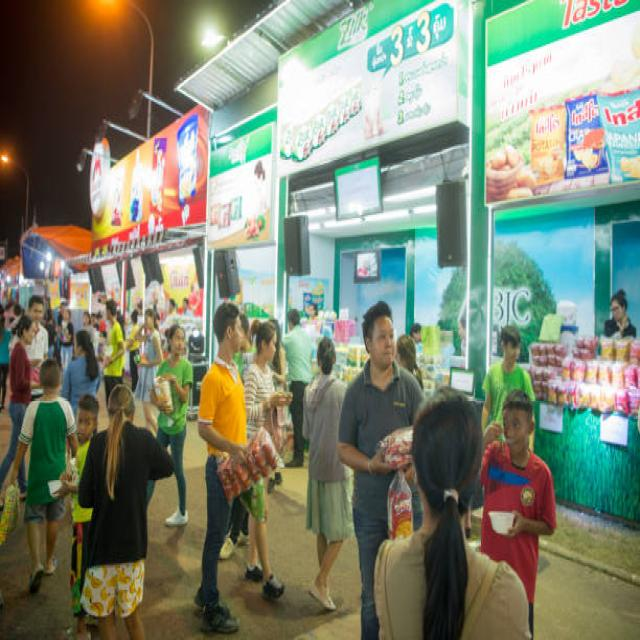Emperan: (281, 24, 475, 464), (486, 16, 640, 535)
